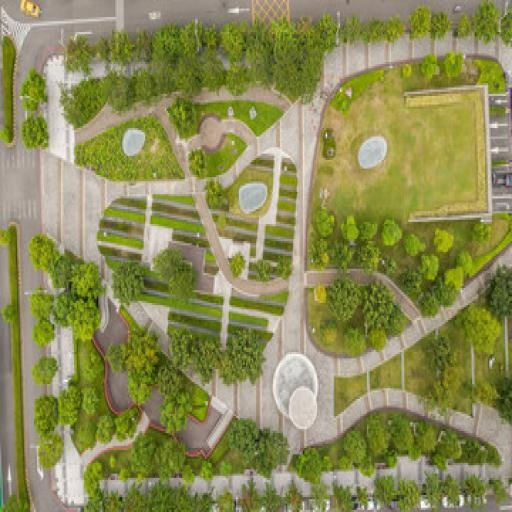tree-top: (154, 376, 212, 430), (461, 296, 511, 355), (124, 328, 159, 402), (218, 328, 264, 384), (273, 34, 314, 91), (59, 80, 109, 126), (156, 248, 194, 305), (360, 277, 395, 333), (242, 25, 275, 84), (166, 94, 207, 139), (486, 257, 512, 322), (229, 416, 264, 460), (71, 258, 105, 300), (34, 431, 69, 471), (330, 274, 359, 320), (108, 263, 138, 306), (363, 411, 388, 462), (153, 22, 182, 64), (28, 232, 59, 271), (134, 64, 162, 107), (129, 436, 156, 480), (170, 328, 197, 372), (62, 33, 88, 78), (71, 298, 98, 341), (217, 20, 246, 60), (29, 352, 63, 386), (225, 55, 250, 101), (198, 332, 220, 383), (104, 25, 132, 65), (174, 54, 200, 97), (23, 70, 47, 116), (428, 330, 456, 369), (389, 406, 411, 455), (474, 0, 497, 46), (105, 71, 129, 114), (22, 112, 50, 148), (427, 373, 454, 410), (32, 313, 60, 348), (298, 443, 320, 487), (407, 5, 432, 43), (33, 393, 57, 432), (180, 22, 206, 58), (331, 473, 354, 512), (80, 457, 108, 489), (200, 56, 224, 93), (315, 13, 337, 52), (50, 254, 73, 291), (29, 284, 54, 318), (376, 473, 398, 510), (62, 387, 80, 432), (441, 470, 463, 506), (115, 408, 140, 439), (125, 480, 149, 512), (414, 416, 433, 456), (201, 21, 221, 57), (359, 243, 380, 277), (443, 50, 465, 82), (380, 218, 402, 250), (316, 207, 337, 240), (310, 238, 329, 274), (227, 249, 247, 283), (401, 478, 421, 512), (212, 484, 236, 512), (109, 340, 127, 377), (83, 348, 105, 378), (420, 286, 438, 322), (474, 218, 493, 252), (346, 426, 363, 464), (463, 434, 482, 468), (189, 149, 212, 177), (382, 12, 402, 44), (150, 480, 170, 512), (205, 174, 226, 204), (333, 243, 357, 269), (442, 424, 458, 463), (420, 251, 440, 282), (342, 14, 360, 48), (260, 480, 279, 512), (463, 473, 482, 505), (361, 16, 381, 46), (344, 326, 364, 356), (426, 471, 442, 508), (499, 373, 512, 418), (368, 325, 388, 354), (239, 480, 257, 512), (98, 410, 115, 442), (171, 482, 189, 512), (403, 230, 422, 258), (85, 386, 101, 419), (357, 218, 377, 244), (434, 226, 453, 253), (420, 56, 438, 84), (342, 213, 360, 241), (431, 12, 448, 40), (436, 281, 452, 309), (278, 255, 292, 286), (312, 281, 327, 308), (257, 258, 273, 282), (457, 14, 471, 40)
